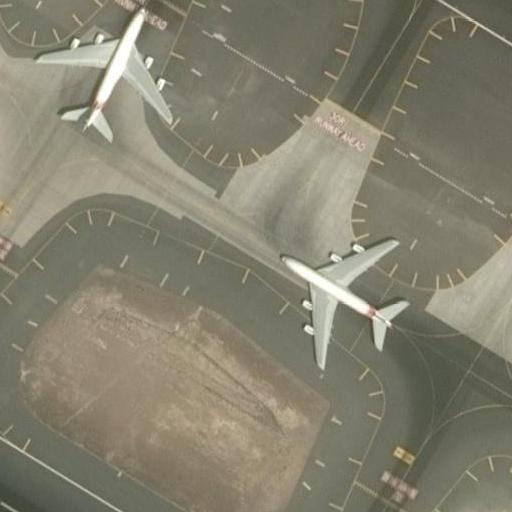Aircraft: (28, 0, 180, 134), (273, 234, 418, 361), (0, 0, 12, 32)
